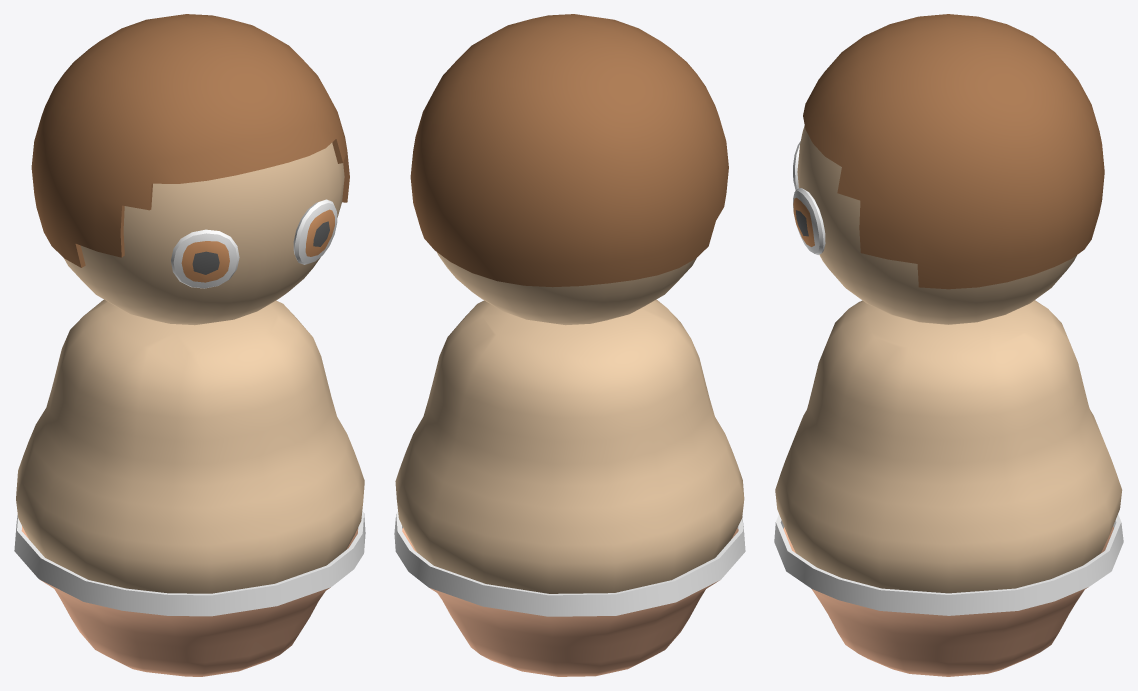
The model's file is delikanlı.fbx.
3 views of the same model, side by side, from view 1: azimuth 30°, elevation 25°; view 2: azimuth 150°, elevation 25°; view 3: azimuth 270°, elevation 25° (orthographic).
Parts seen in each view (by area): view 1: Cube.051; view 2: Cube.051; view 3: Cube.051.
Boxes of the visible parts, <box> form: Cube.051: <box>14,14,365,676</box>; Cube.051: <box>394,14,745,676</box>; Cube.051: <box>774,14,1123,676</box>.
Size of the model in its own units: 185 by 359 by 185.
